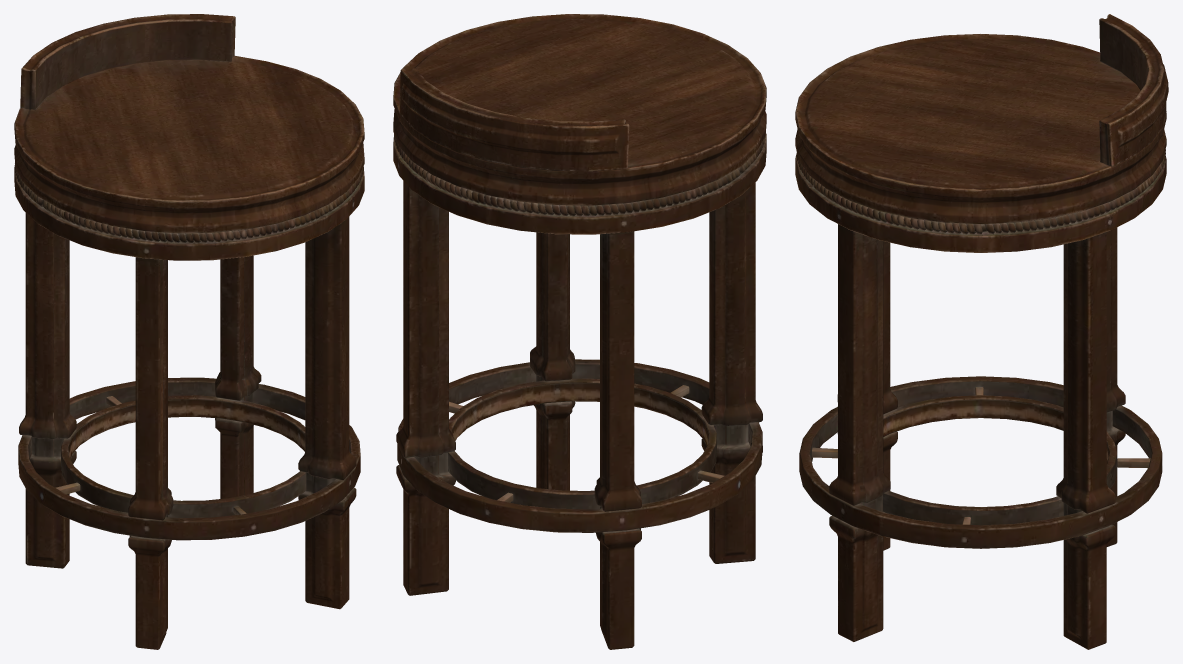
Rendered from bar_chair_round_01.glb.
The picture shows the model from 3 angles, left to right: view 1: azimuth 30°, elevation 25°; view 2: azimuth 150°, elevation 25°; view 3: azimuth 270°, elevation 25°; orthographic projection. The views are drawn at different scales.
Parts seen in each view (by area): view 1: bar_chair_round_01; view 2: bar_chair_round_01; view 3: bar_chair_round_01.
Boxes of the visible parts, x1,y1,x2,y2 form: bar_chair_round_01: (14, 14, 364, 649); bar_chair_round_01: (393, 14, 766, 649); bar_chair_round_01: (795, 14, 1168, 649).
Size of the model in its own units: 0.4832 by 0.7505 by 0.486.
1 material, 1 textured.
